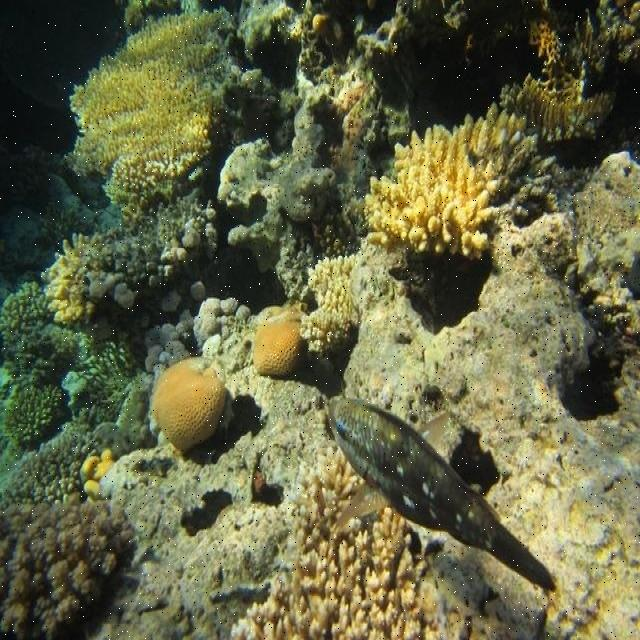fish: (328, 396, 558, 592)
reefs: (231, 446, 463, 637), (65, 13, 230, 200), (365, 103, 540, 258), (2, 501, 135, 638), (0, 280, 82, 387), (5, 420, 96, 506), (154, 357, 226, 451), (306, 256, 361, 352), (45, 232, 103, 323), (5, 384, 62, 445), (254, 318, 307, 376)
